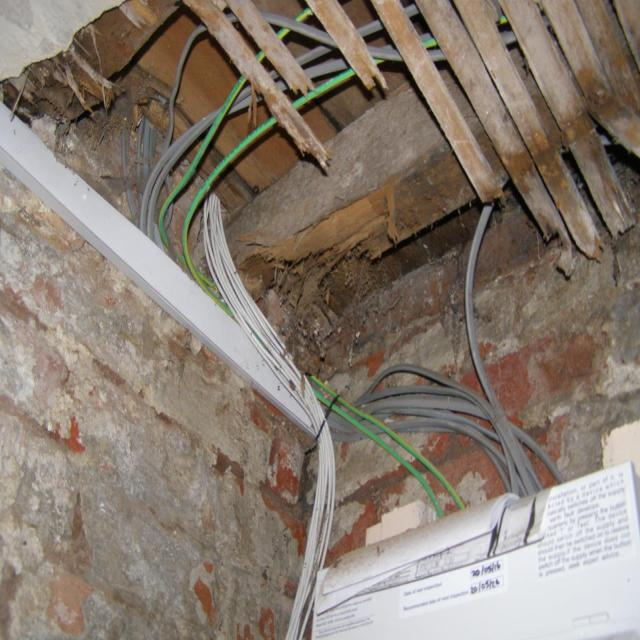crack: (0, 446, 109, 637)
crack_mold_damp_spalling_cor: (0, 446, 109, 637)
damp: (267, 196, 640, 617), (0, 147, 306, 637)
